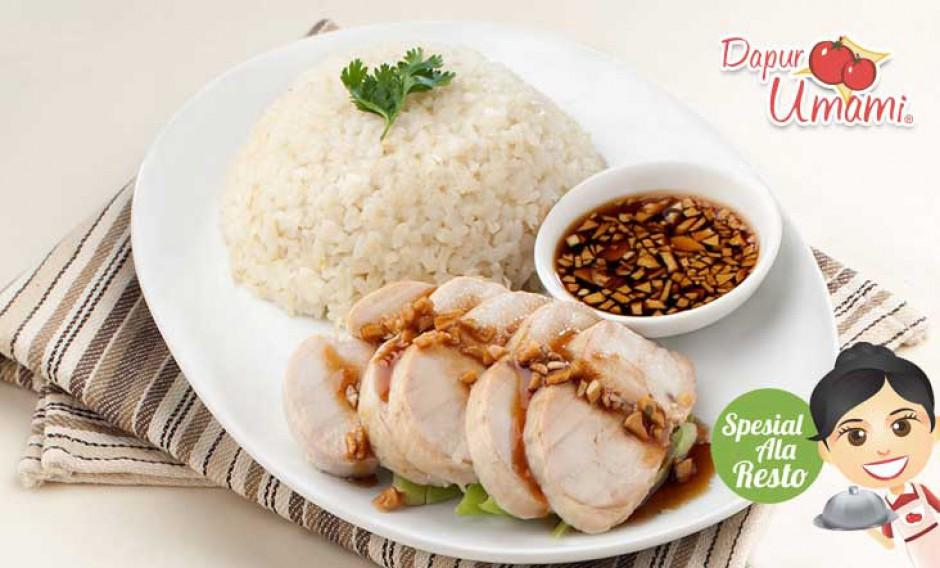daging: (362, 338, 624, 458)
kacang_legume: (598, 207, 706, 293)
makanan_berpati: (277, 127, 523, 255)
